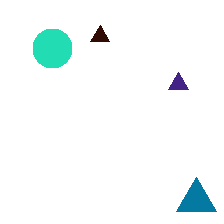circle: (33, 29, 71, 67)
triangle: (176, 177, 216, 211), (168, 72, 188, 89), (90, 25, 109, 41)
